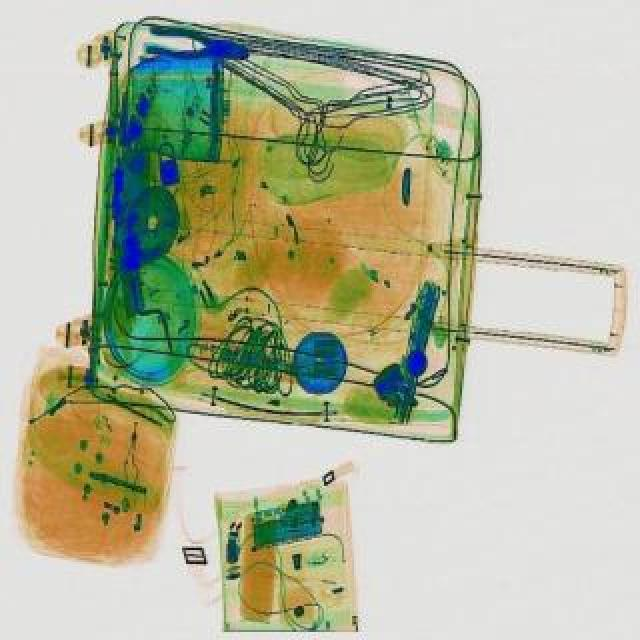wrench: (146, 24, 252, 64)
